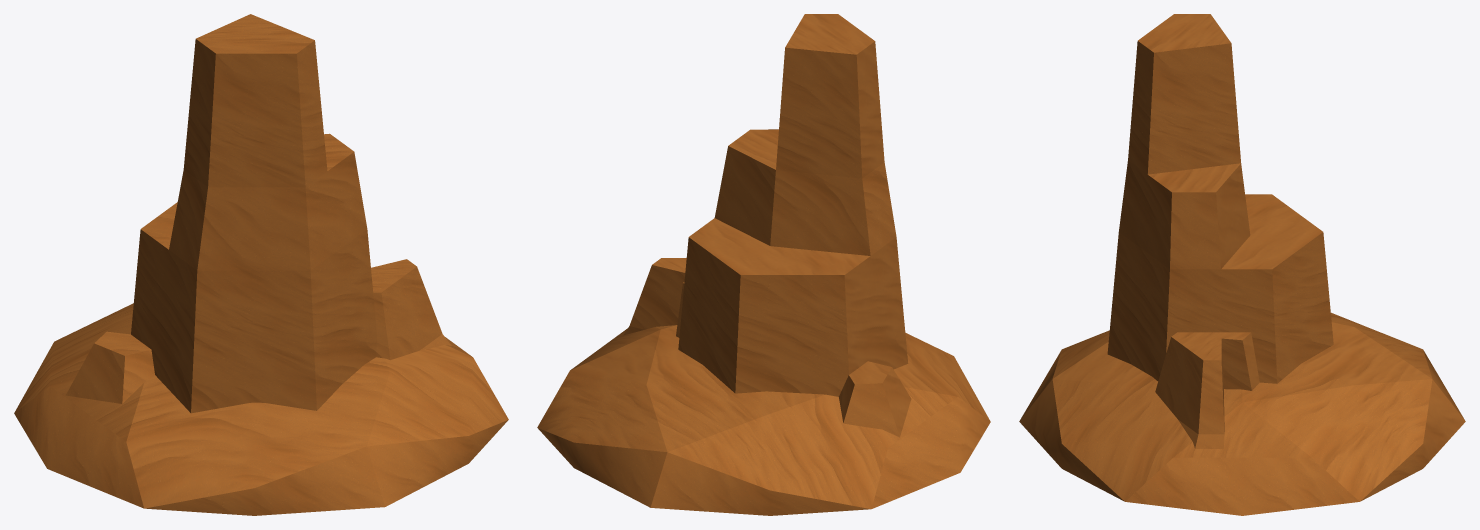
File: rock2.glb
3 renders of one model, left to right at view 1: azimuth 30°, elevation 25°; view 2: azimuth 150°, elevation 25°; view 3: azimuth 270°, elevation 25°, orthographic. The views are drawn at different scales.
Bounding box in the file's own units: 25 × 22.91 × 25.
2 materials, 1 textured.
